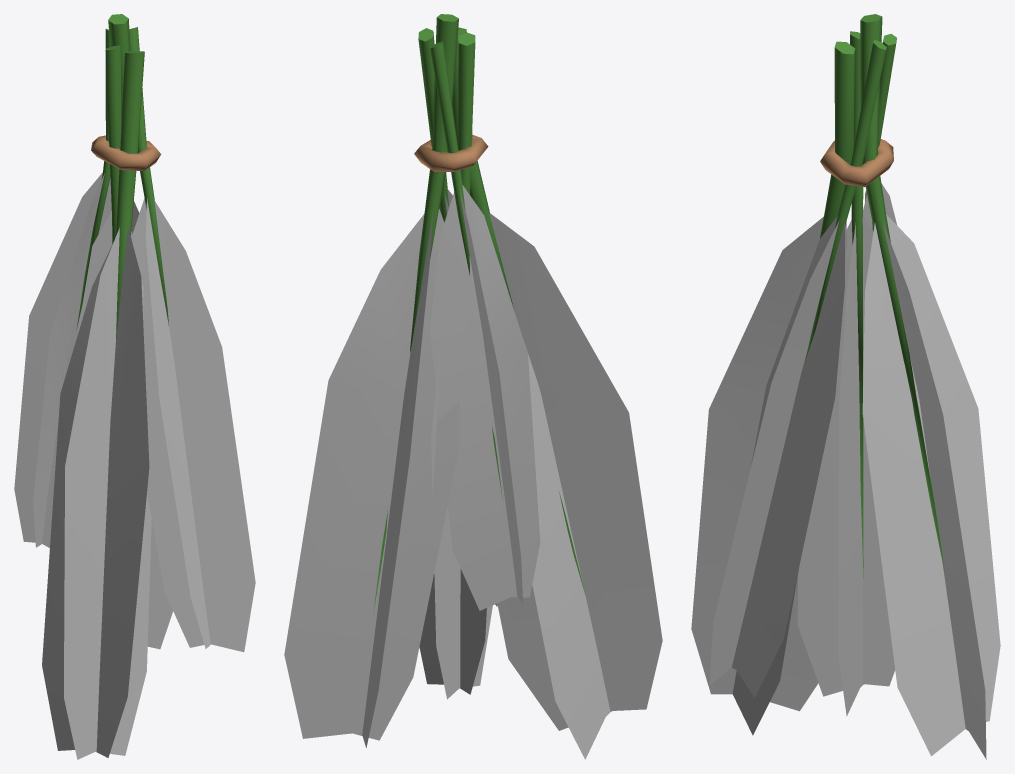
The model's file is HangingHerbBundle2.fbx.
3 renders of one model, left to right at view 1: azimuth 30°, elevation 25°; view 2: azimuth 150°, elevation 25°; view 3: azimuth 270°, elevation 25°, orthographic. The views are drawn at different scales.
Visible parts, largest first — view 1: HangingHerbBundle2; view 2: HangingHerbBundle2; view 3: HangingHerbBundle2.
Boxes of the visible parts, x1,y1,x2,y2 form: HangingHerbBundle2: (14, 14, 255, 759); HangingHerbBundle2: (284, 14, 662, 759); HangingHerbBundle2: (691, 14, 1000, 759).
Bounding box in the file's own units: 11.97 × 35 × 13.18.
